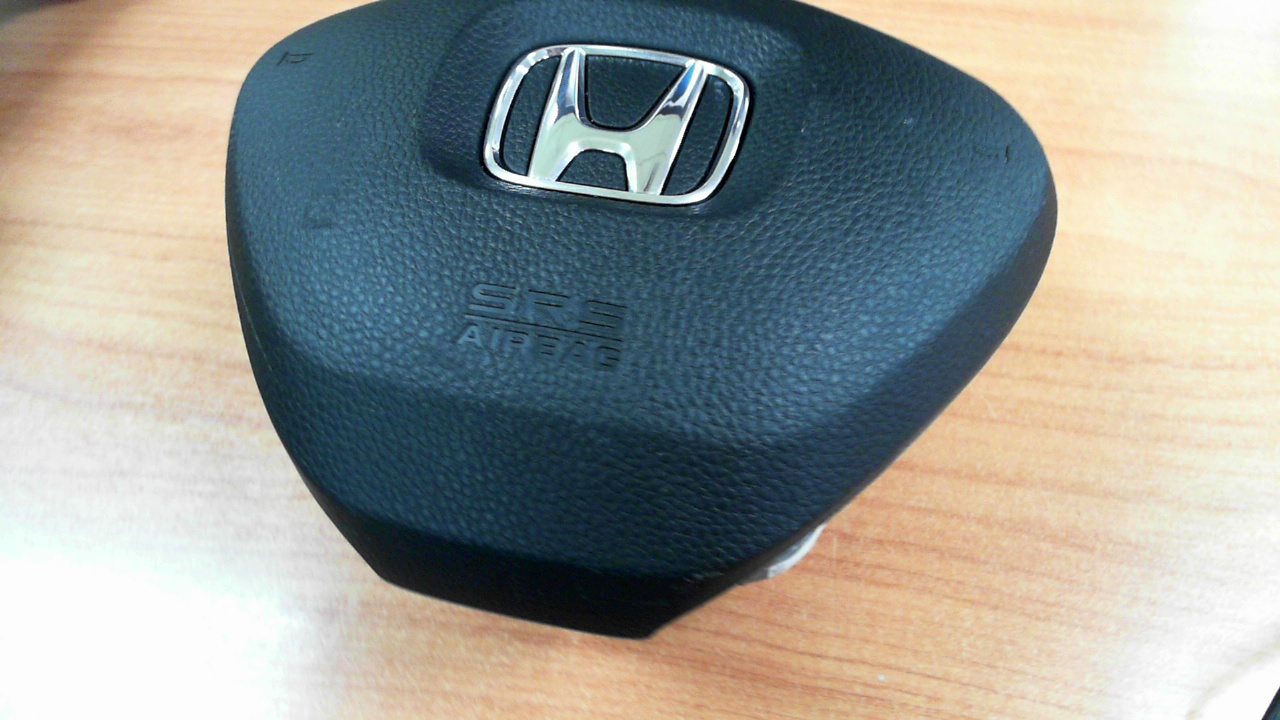Airbag: (224, 0, 1060, 641)
Honda: (482, 43, 750, 205)
